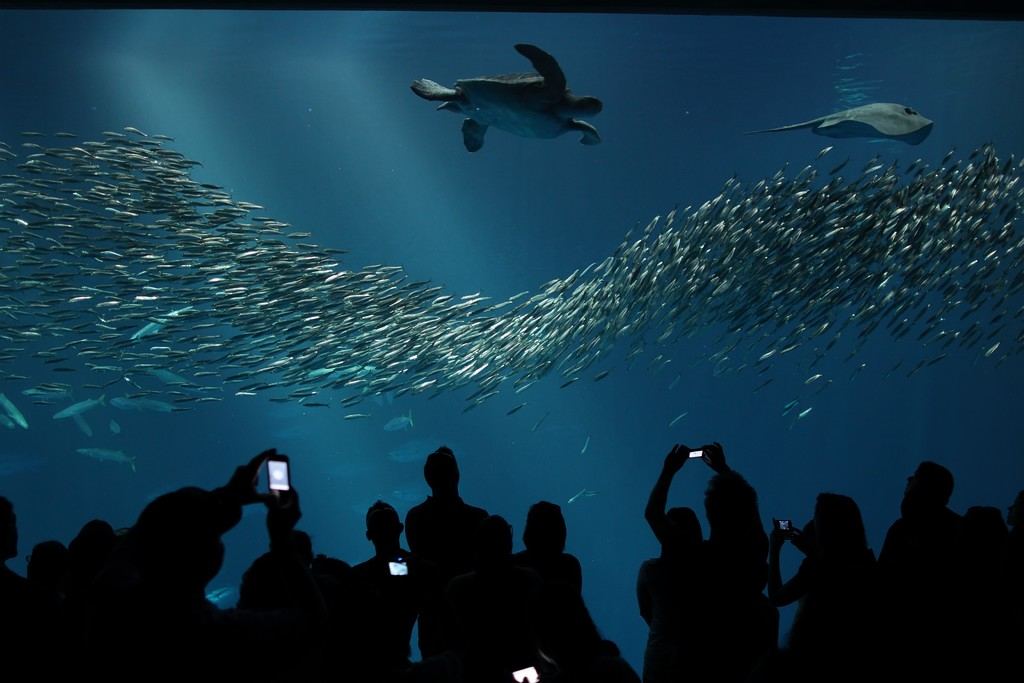Sea turtles: (408, 41, 608, 153)
